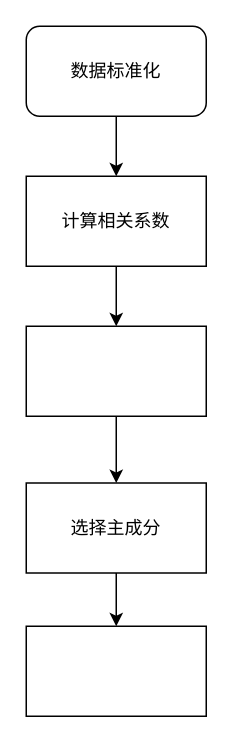
Image size: 233x743. Some labels were removed from this diagram. Here are the shapes that lost their labels. From the top down, the centre of each, then its label:
At point 115,370: "计算相关系数矩阵R和特征向量".
At point 115,670: "计算综合得分".
